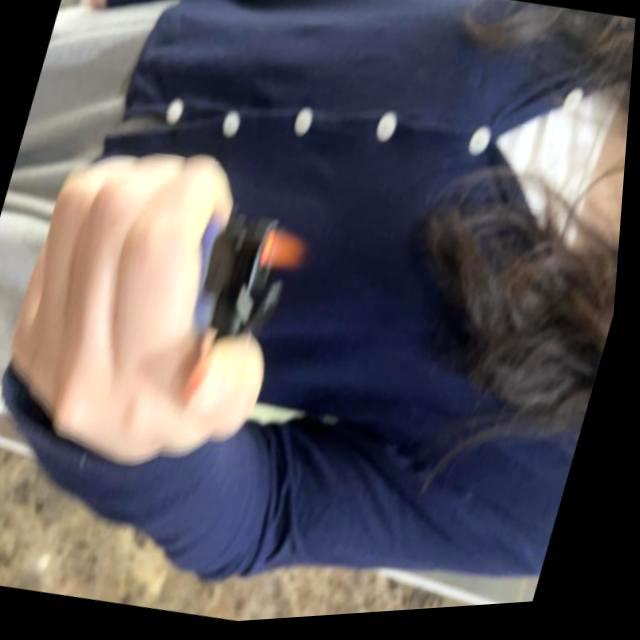fire: (264, 225, 316, 279)
